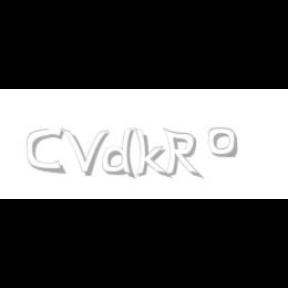C: (26, 128, 64, 174)
R: (163, 128, 201, 180)
V: (61, 128, 109, 176)
d: (102, 128, 140, 180)
k: (134, 128, 172, 180)
o: (208, 128, 238, 158)
